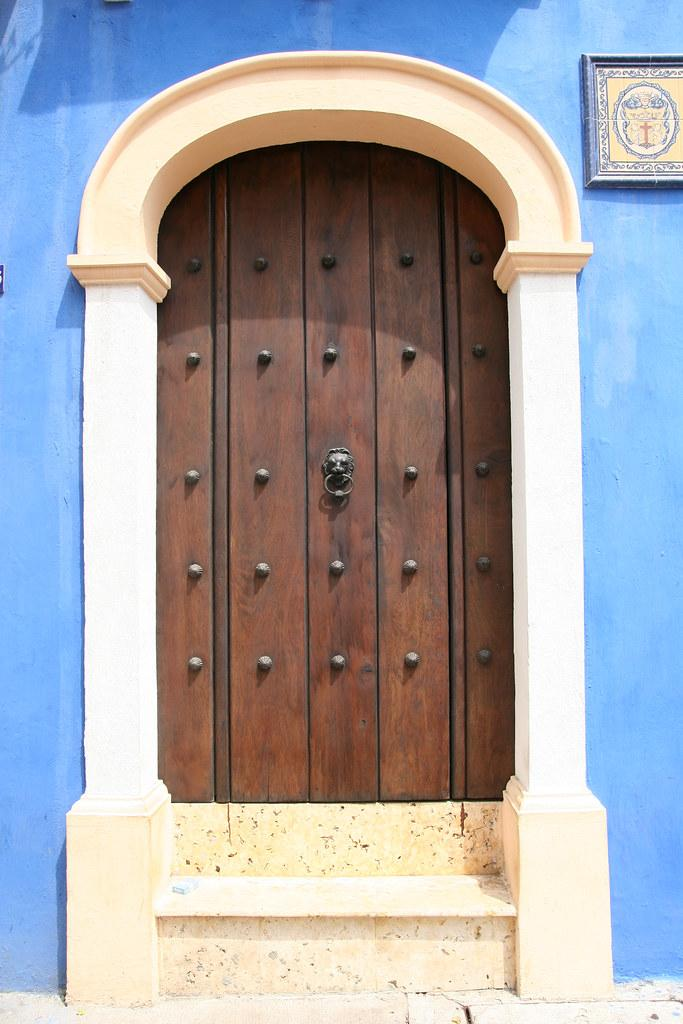door: (156, 140, 514, 805)
